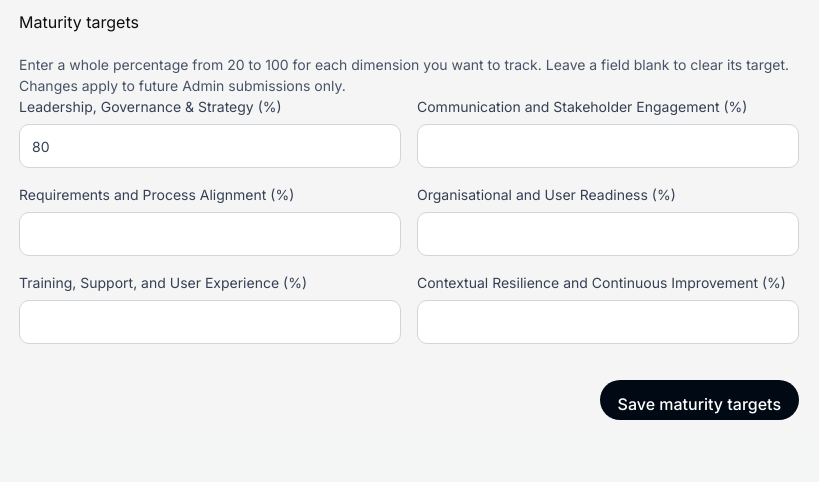
Test: loads saved values, clears a target, and saves only the dimensions with values
Clear the number field labelled "Leadership, Governance & Strategy (%)" at (210, 146), box top-left (19, 124), bottom-right (401, 168)
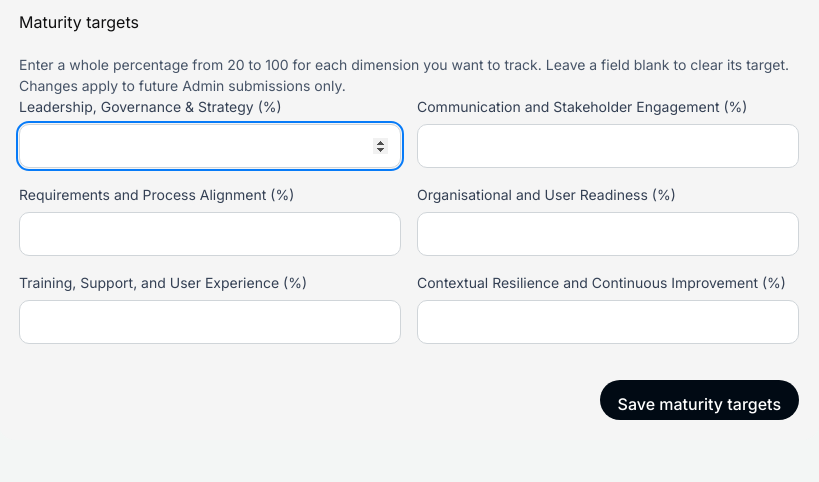
Type "100" into the number field labelled "Contextual Resilience and Continuous Improvement (%)".
click(608, 322); type("100")  # box top-left (417, 300), bottom-right (799, 344)
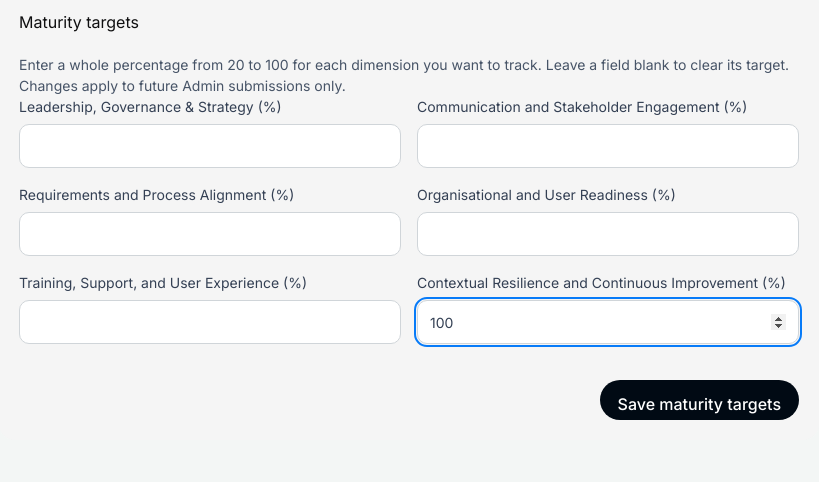
Click the button "Save maturity targets".
click(699, 400)  # box top-left (600, 380), bottom-right (799, 420)
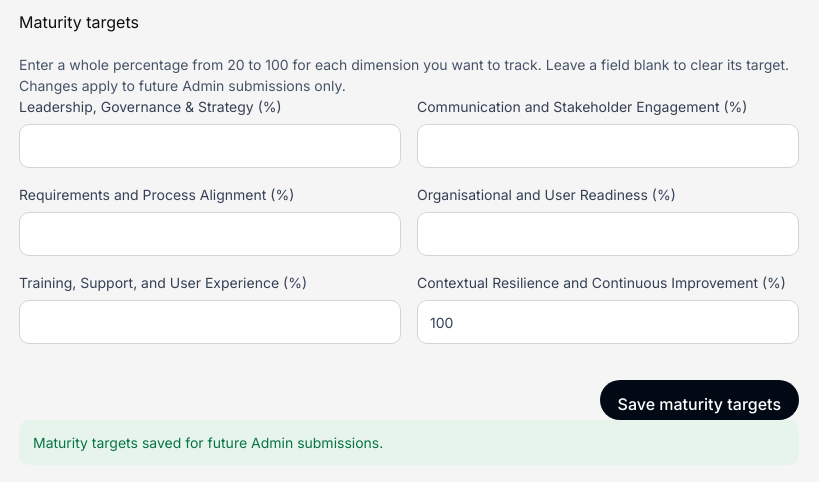
expect the text "Maturity targets saved for future Admin submissions." is shown: met, box top-left (19, 420), bottom-right (799, 465)
